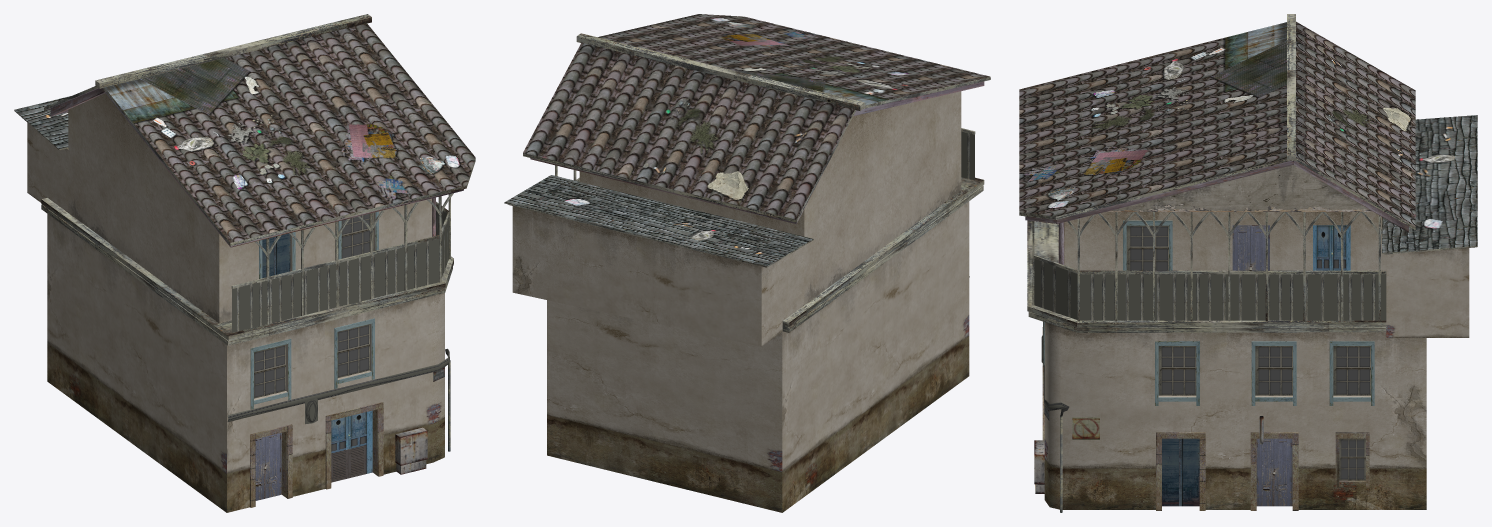
The model's file is Hous_1.FBX.
The picture shows the model from 3 angles, left to right: view 1: azimuth 30°, elevation 25°; view 2: azimuth 150°, elevation 25°; view 3: azimuth 270°, elevation 25°; orthographic projection. The views are drawn at different scales.
Parts seen in each view (by area): view 1: cadnav; view 2: cadnav; view 3: cadnav.
Part boxes in pixels (bbox=[...]): cadnav: bbox=[14, 14, 475, 512]; cadnav: bbox=[504, 14, 990, 512]; cadnav: bbox=[1019, 14, 1477, 512].
Bounding box in the file's own units: 8.4 × 10.3 × 11.52.
